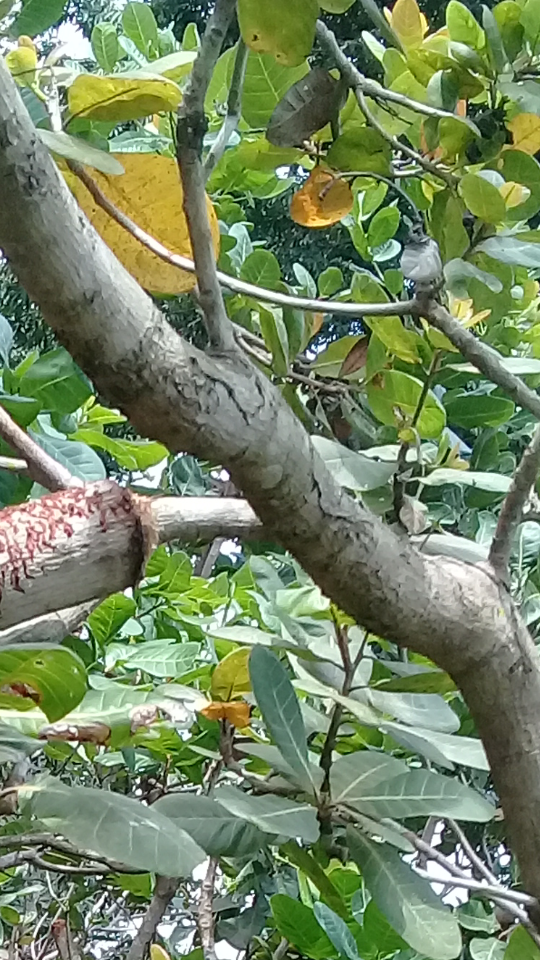Analepse trifasciata: (65, 471, 196, 600)
